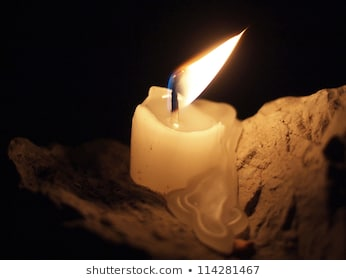Fire: (166, 27, 246, 108)
